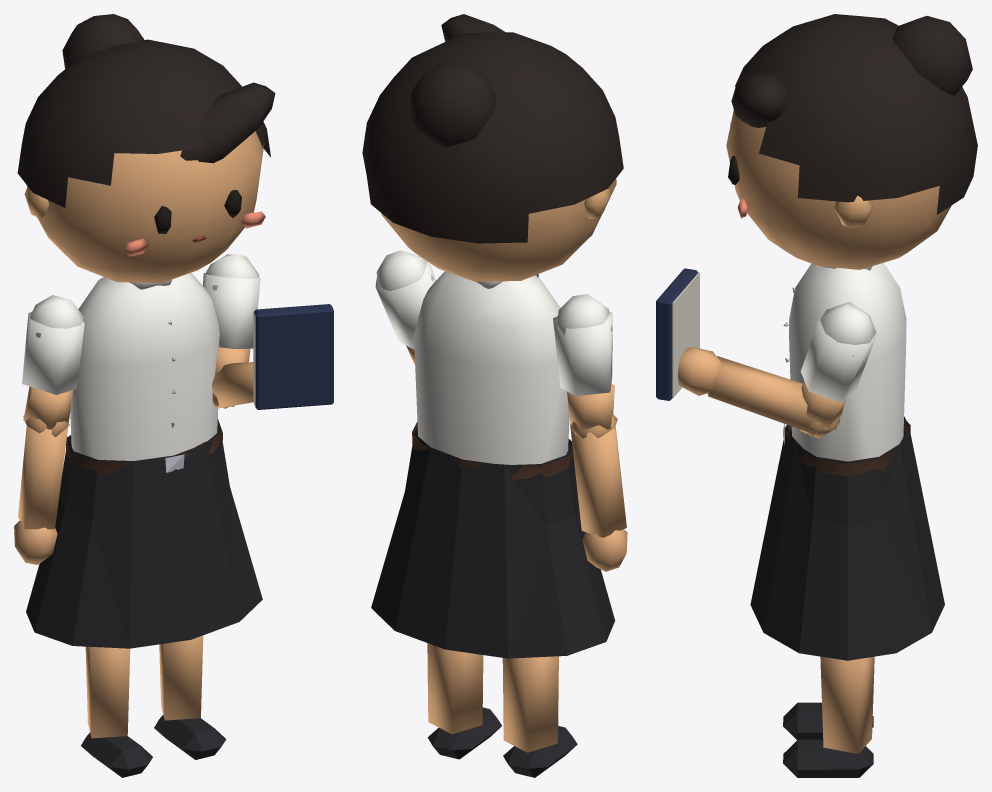
File: era4_uni_student.glb
3 renders of one model, left to right at view 1: azimuth 30°, elevation 25°; view 2: azimuth 150°, elevation 25°; view 3: azimuth 270°, elevation 25°, orthographic. The views are drawn at different scales.
Visible parts, largest first — view 1: body, head, prop_book, arm_R, shin_R, forearm_R, shin_L, arm_L, forearm_L; view 2: body, head, arm_R, shin_R, shin_L, forearm_R, arm_L; view 3: head, body, shin_L, arm_L, forearm_L, prop_book, shin_R.
Boxes of the visible parts, box(x1,y1,x2,y2) form: body: box(26, 273, 262, 648); head: box(17, 14, 275, 282); prop_book: box(253, 304, 333, 409); arm_R: box(22, 295, 84, 436); shin_R: box(81, 646, 152, 777); forearm_R: box(14, 424, 68, 564); shin_L: box(154, 635, 226, 759); arm_L: box(203, 254, 260, 407); forearm_L: box(212, 362, 253, 408); body: box(371, 271, 615, 658); head: box(362, 14, 623, 281); arm_R: box(553, 294, 617, 438); shin_R: box(502, 656, 577, 777); shin_L: box(427, 643, 501, 759); forearm_R: box(570, 422, 627, 571); arm_L: box(375, 250, 435, 365); head: box(726, 14, 977, 269); body: box(750, 263, 944, 660); shin_L: box(783, 656, 874, 777); arm_L: box(800, 302, 876, 438); forearm_L: box(678, 347, 838, 436); prop_book: box(656, 268, 699, 400); shin_R: box(783, 702, 873, 739).
Size of the model in its own units: 0.5313 by 1.47 by 0.5841.
